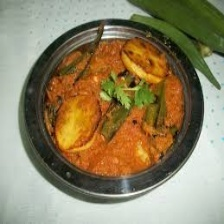sabzi: (35, 30, 193, 182)
